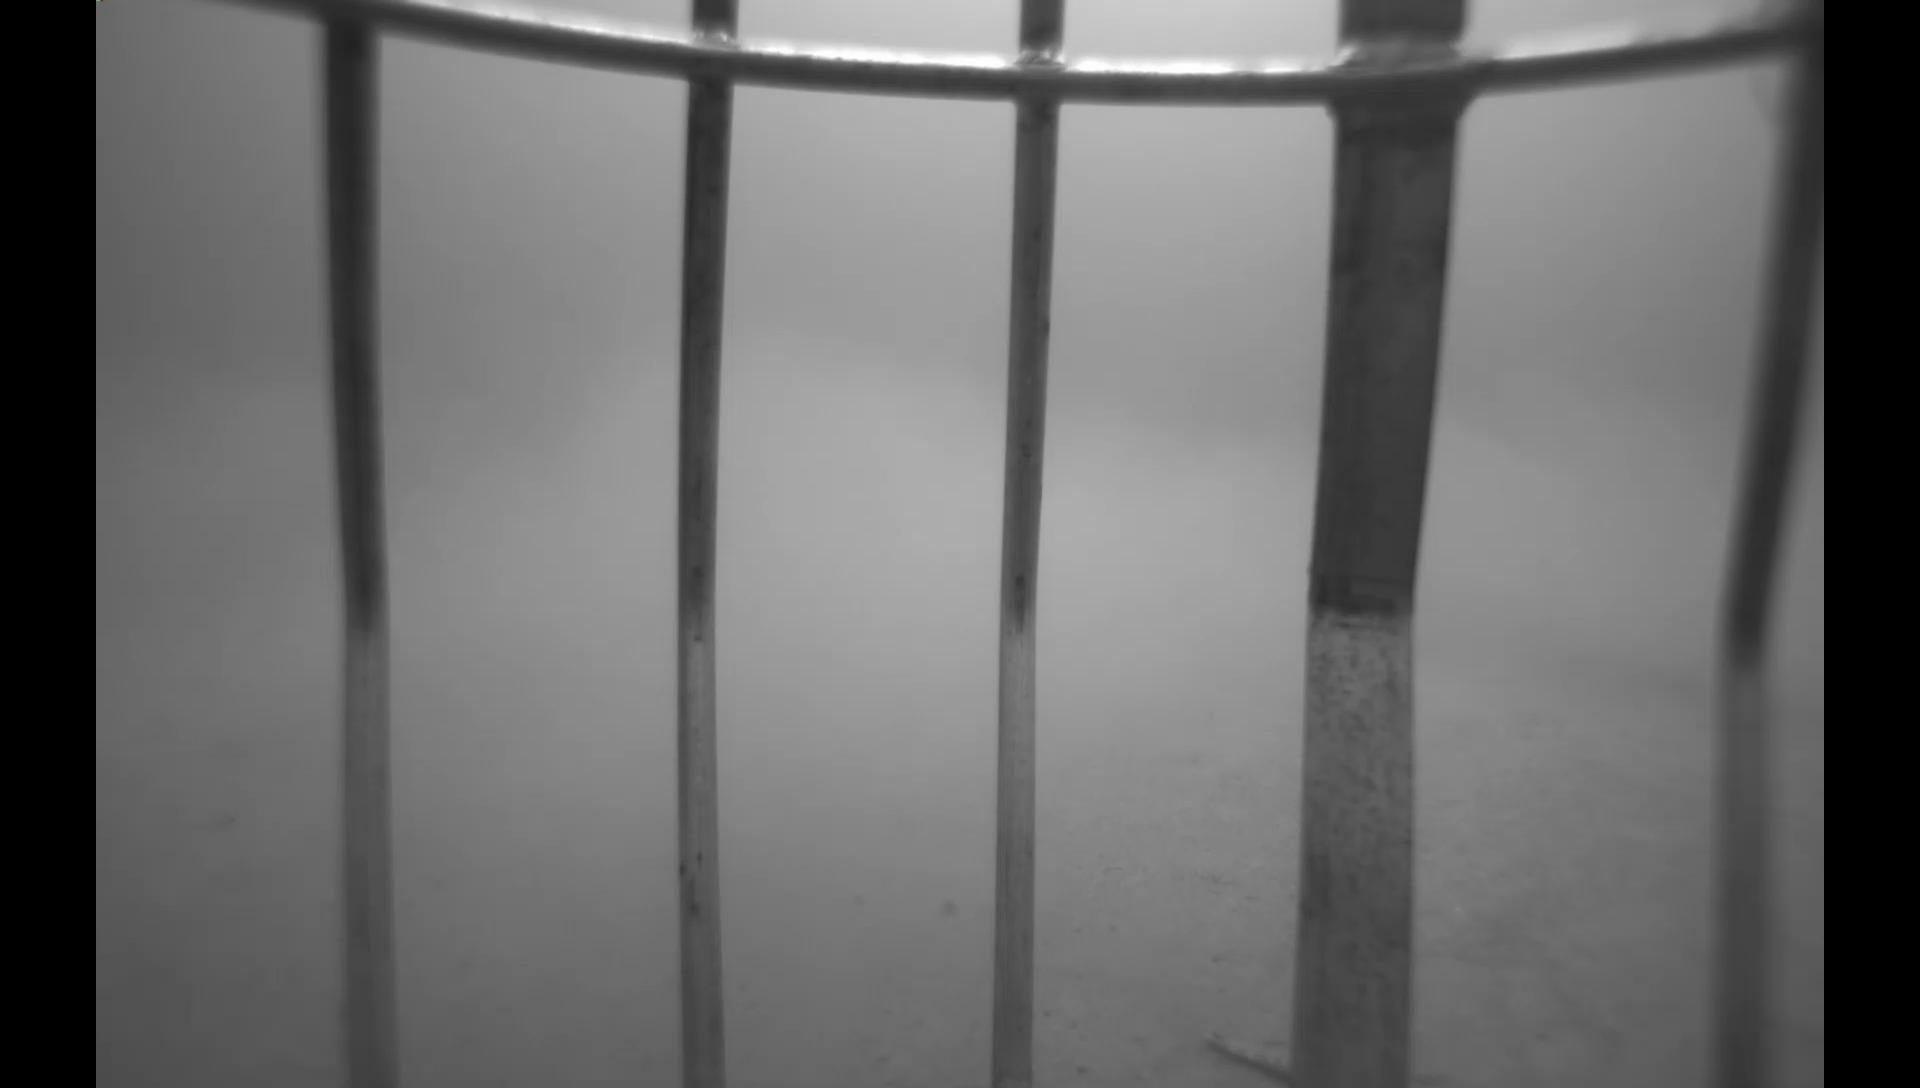OPHICHTHUSPUNCTICEPS-143150402: (1196, 1019, 1288, 1081)
